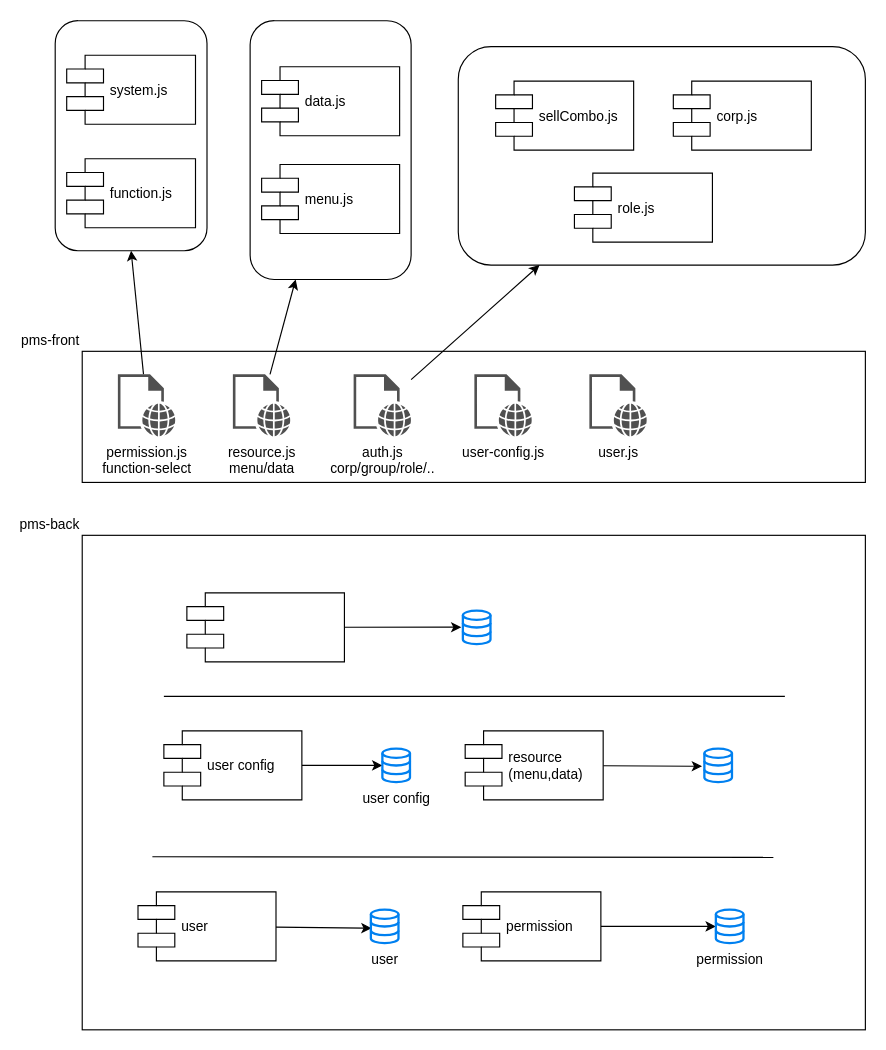
This 886x1050 diagram has some shape labels left out. The shapes that lost their labels are listed below. From the top down, each one's centre as x and y in pixels, then its label:
point 265,627: auth(config get)
point 476,627: auth
point 718,765: resource
